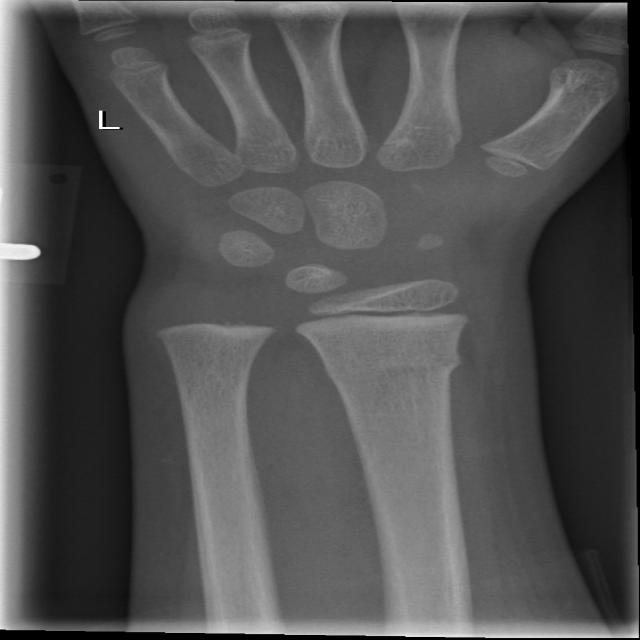radius fracture: (301, 337, 506, 414)
